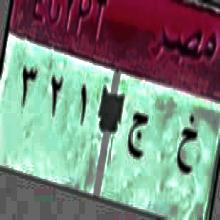1: (75, 78, 89, 128)
2: (48, 66, 64, 126)
3: (17, 61, 39, 113)
jeem: (126, 104, 149, 166)
khaa: (175, 108, 198, 183)
